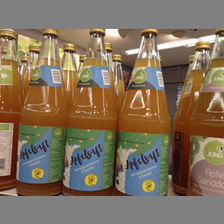juice: (115, 29, 173, 195), (62, 29, 118, 194), (17, 30, 66, 196), (188, 30, 224, 195)
